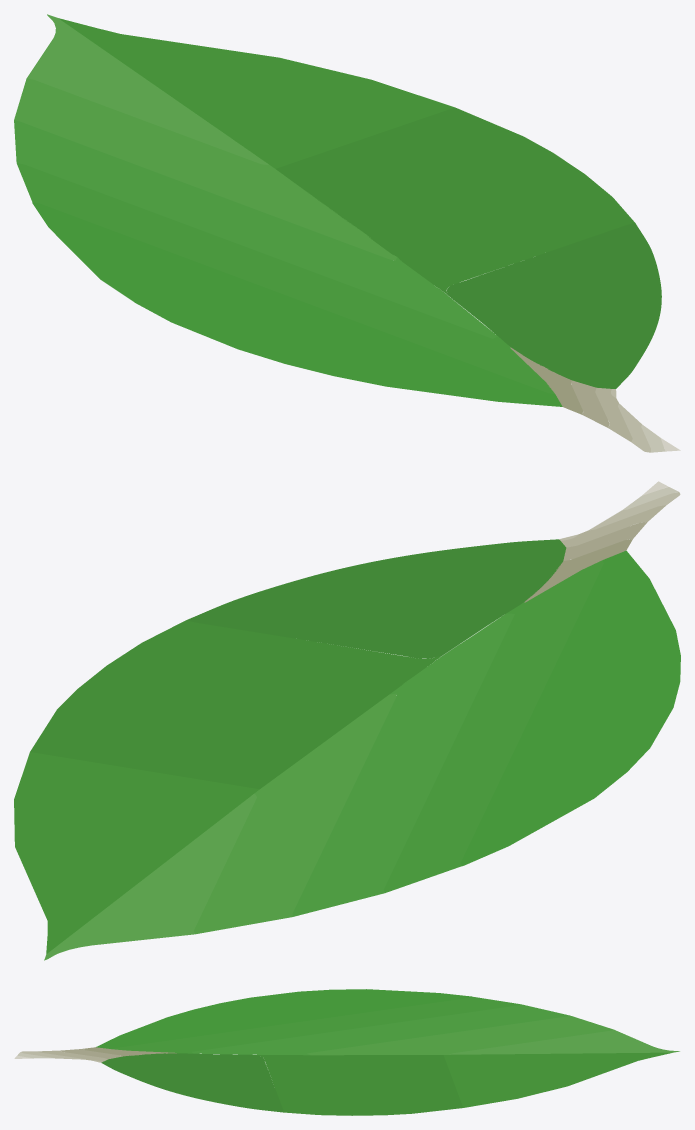
The model's file is mongodb.glb.
The picture shows the model from 3 angles, top to bottom: view 1: azimuth 30°, elevation 25°; view 2: azimuth 150°, elevation 25°; view 3: azimuth 270°, elevation 25°; orthographic projection. The views are drawn at different scales.
Visible parts, largest first — view 1: mongo.002; view 2: mongo.002; view 3: mongo.002.
Part boxes in pixels (x1=…): mongo.002: x1=14, y1=14, x2=680, y2=452; mongo.002: x1=14, y1=481, x2=680, y2=960; mongo.002: x1=14, y1=989, x2=679, y2=1115.
Size of the model in its own units: 1.7 by 1.49e-08 by 3.79.
